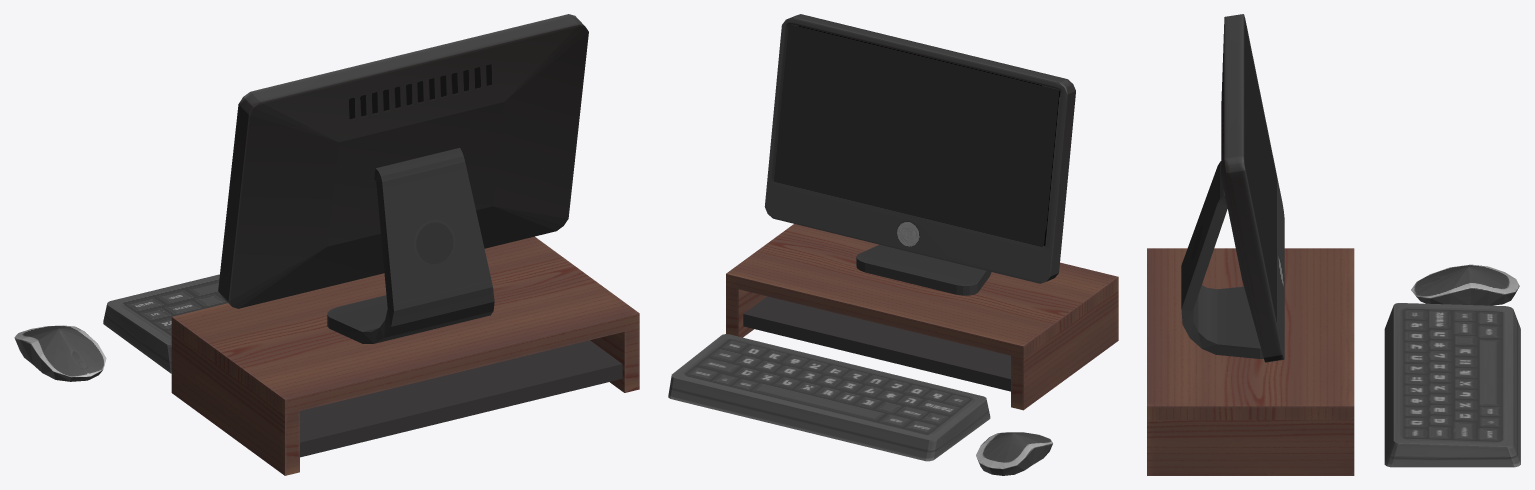
The model's file is P_Computer_002_S1_M02.obj.
3 renders of one model, left to right at view 1: azimuth 30°, elevation 25°; view 2: azimuth 150°, elevation 25°; view 3: azimuth 270°, elevation 25°, orthographic. The views are drawn at different scales.
Bounding box in the file's own units: 1.16 × 0.8695 × 0.9447.
1 material, 1 textured.
